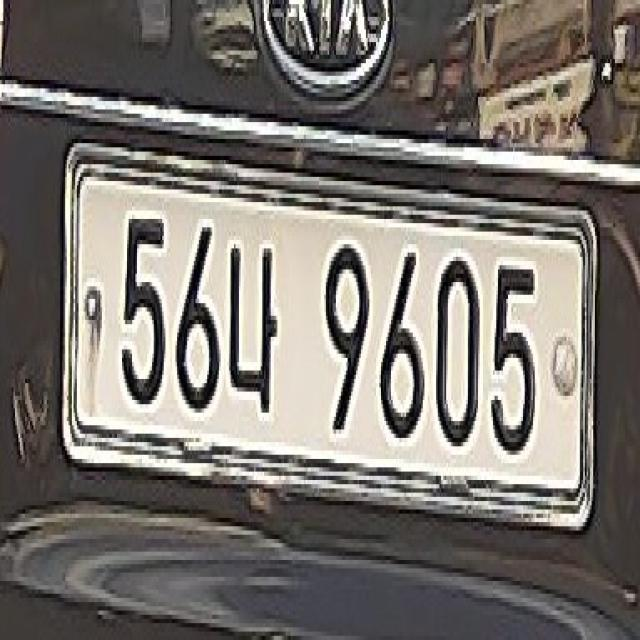plat: (59, 144, 600, 530)
